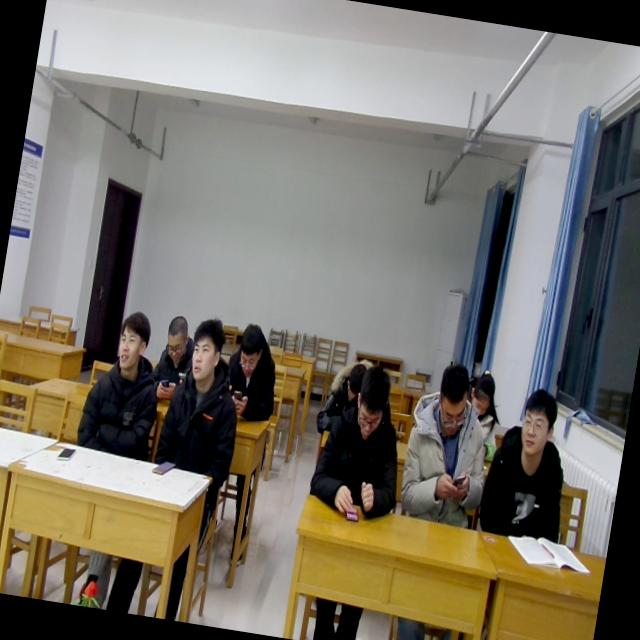bow: (218, 316, 288, 428), (313, 354, 377, 442)
down: (349, 360, 400, 448), (428, 356, 476, 441), (233, 316, 271, 381), (466, 359, 502, 422), (160, 310, 193, 368), (340, 354, 370, 400)
lookup: (512, 381, 564, 460), (182, 312, 232, 394), (111, 304, 156, 376)
sit: (395, 356, 505, 528), (306, 357, 419, 520), (150, 308, 256, 480), (475, 380, 582, 547), (74, 304, 172, 462), (456, 364, 511, 464), (148, 311, 204, 405)
